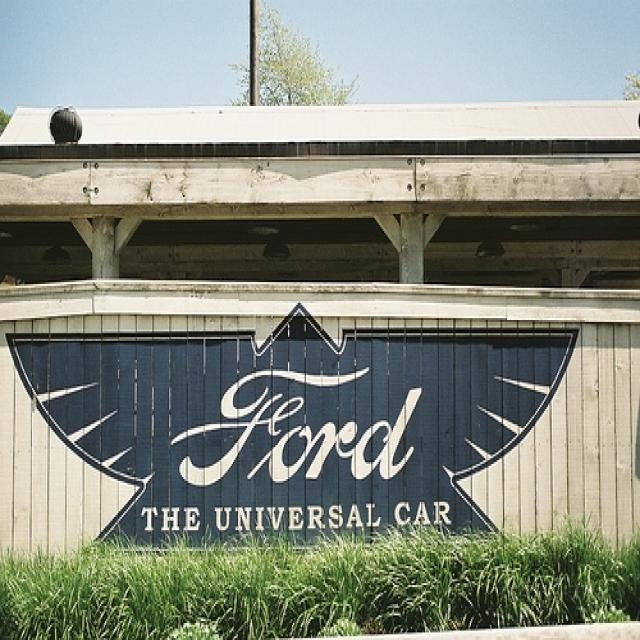ford: (161, 361, 432, 495)
